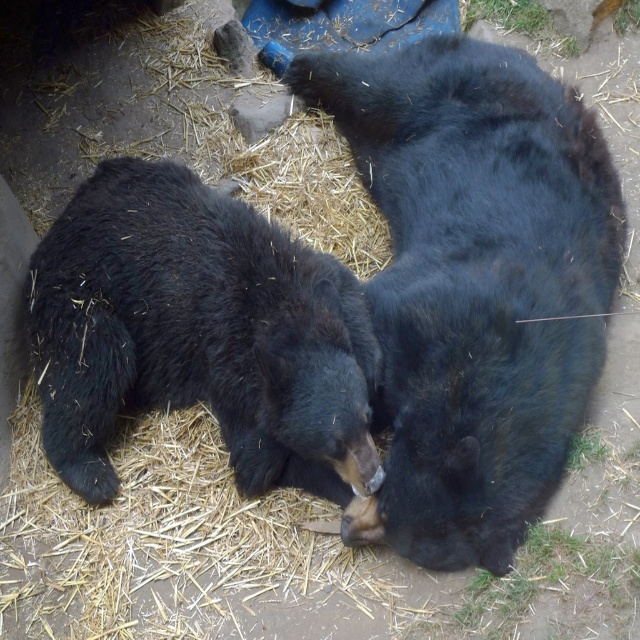Bear: (283, 32, 627, 577), (19, 154, 387, 505)
